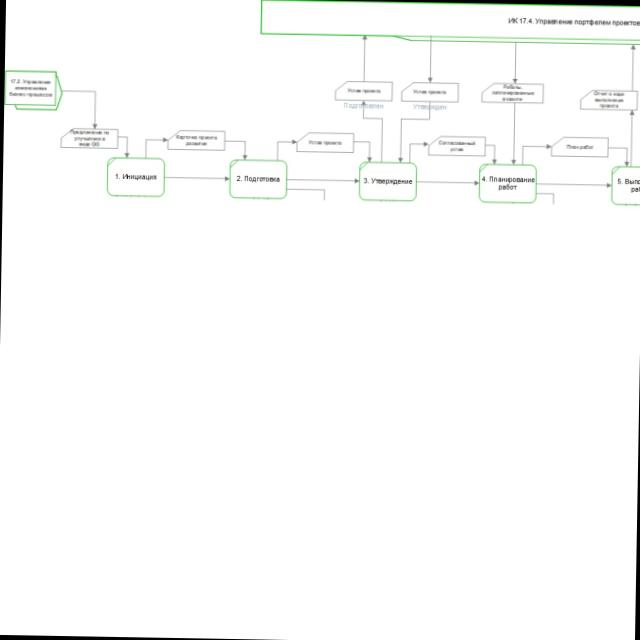arrow: (398, 100, 432, 162), (61, 88, 100, 130), (359, 101, 385, 162), (163, 172, 230, 185), (286, 176, 360, 186), (520, 142, 550, 164), (416, 178, 478, 188), (536, 181, 612, 189), (224, 136, 248, 160), (352, 137, 373, 162), (510, 102, 518, 165), (606, 145, 630, 166), (143, 138, 167, 158), (275, 138, 296, 160), (407, 140, 428, 162), (359, 35, 369, 81), (426, 36, 434, 82), (628, 44, 636, 90), (628, 110, 634, 166), (118, 134, 131, 158), (511, 42, 518, 82), (484, 142, 496, 164)
rectangle: (230, 160, 287, 199), (480, 164, 536, 203), (108, 158, 164, 197), (360, 162, 416, 201), (4, 71, 58, 107), (550, 136, 608, 158), (334, 80, 392, 102), (482, 83, 544, 103), (61, 128, 118, 149), (581, 89, 638, 110), (401, 82, 459, 102), (297, 132, 354, 152), (428, 137, 486, 156), (168, 131, 225, 150), (612, 166, 639, 205)
